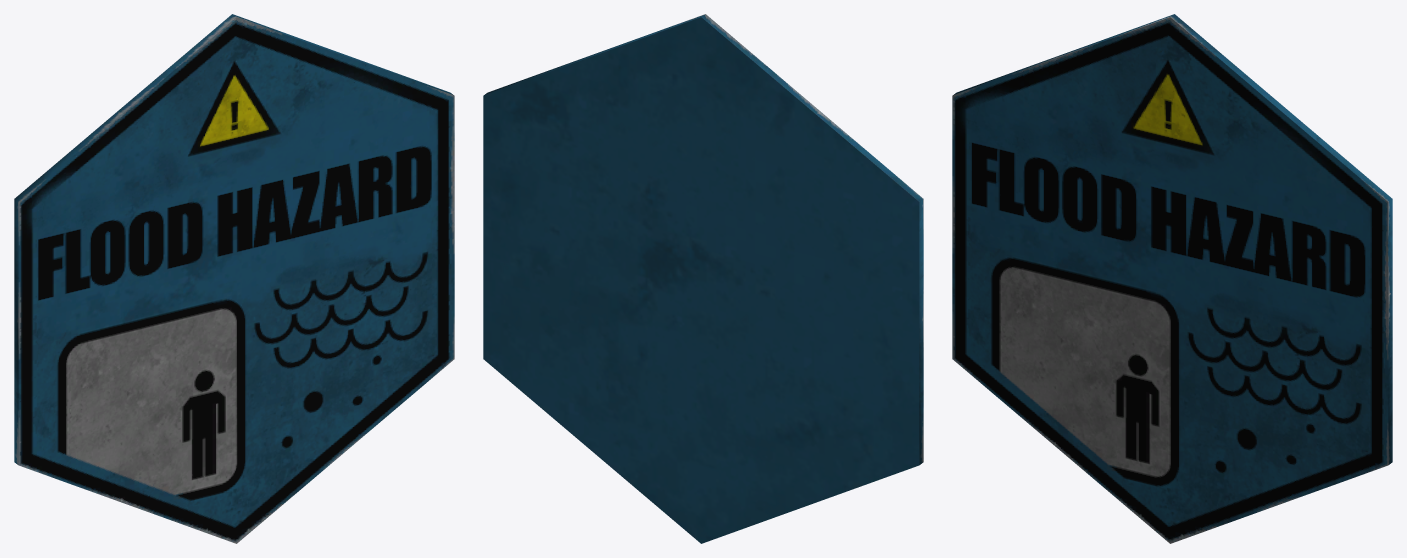
The model's file is sign_hex_wallwater.dae.
3 renders of one model, left to right at view 1: azimuth 30°, elevation 25°; view 2: azimuth 150°, elevation 25°; view 3: azimuth 330°, elevation 25°, orthographic.
Visible parts, largest first — view 1: sign_hex_wallwater; view 2: sign_hex_wallwater; view 3: sign_hex_wallwater.
Boxes of the visible parts, x1,y1,x2,y2 form: sign_hex_wallwater: (14, 14, 454, 543); sign_hex_wallwater: (483, 14, 923, 543); sign_hex_wallwater: (952, 14, 1392, 543).
Bounding box in the file's own units: 0.3889 × 0.4491 × 0.00673.
